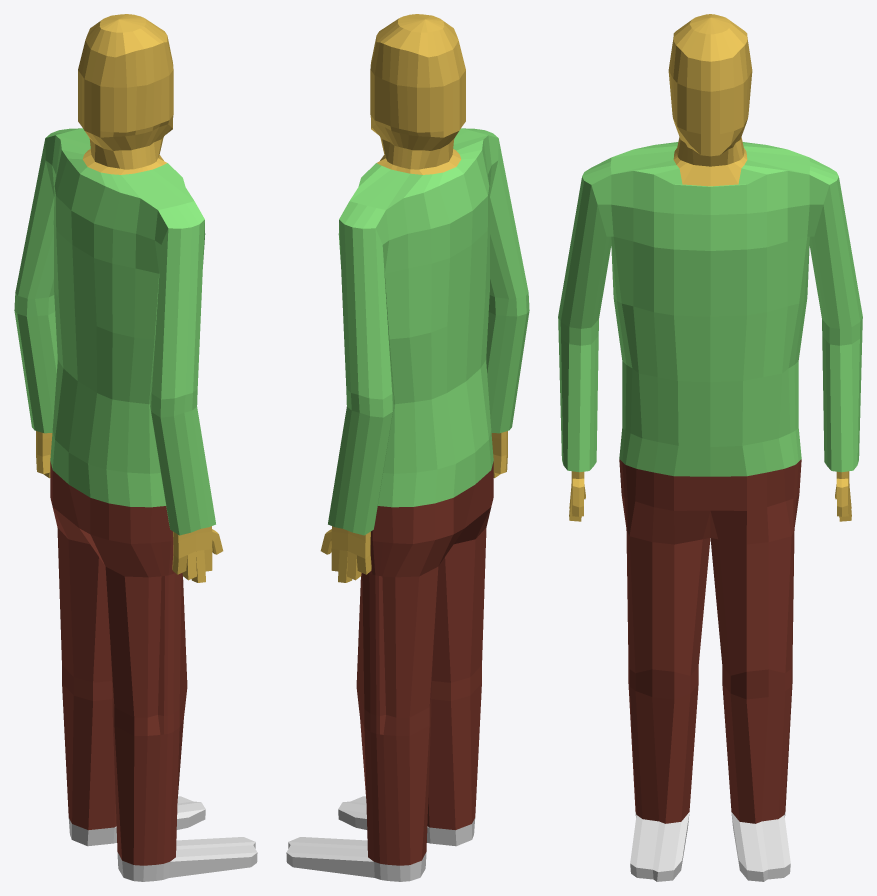
File: SM_Human02.fbx
3 views of the same model, side by side, from view 1: azimuth 30°, elevation 25°; view 2: azimuth 150°, elevation 25°; view 3: azimuth 270°, elevation 25° (orthographic). The views are drawn at different scales.
Visible parts, largest first — view 1: SM_Human02; view 2: SM_Human02; view 3: SM_Human02.
Part boxes in pixels (x1,y1,x2,y2): SM_Human02: (14,14,257,881); SM_Human02: (286,14,529,881); SM_Human02: (558,14,862,881).
Size of the model in its own units: 11.05 by 55.47 by 18.85.
